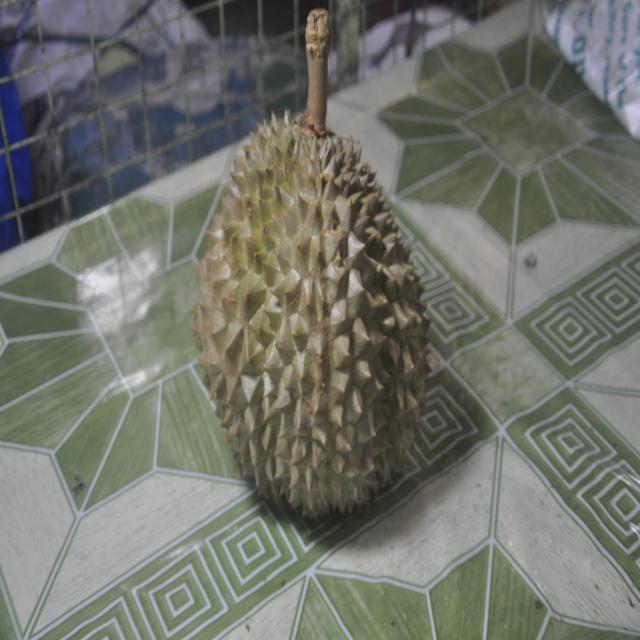mature: (193, 10, 430, 519)
